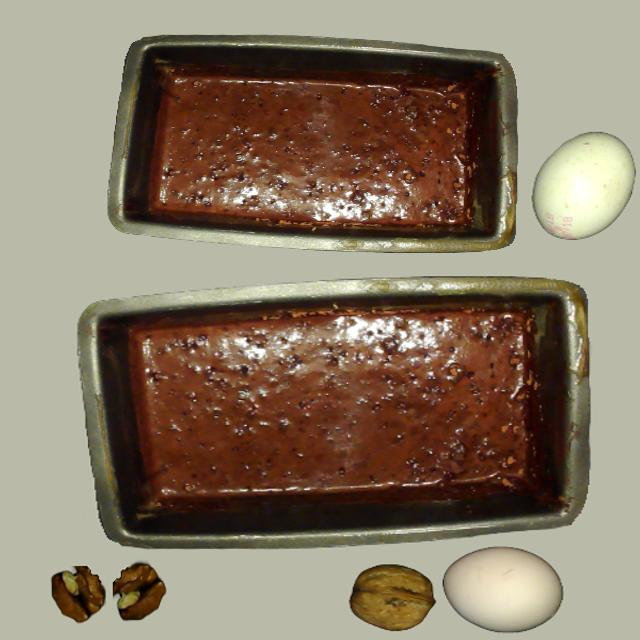Walnut: (350, 564, 434, 630)
